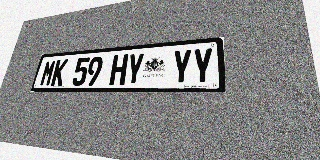5: (71, 57, 90, 86)
9: (85, 56, 104, 86)
H: (109, 54, 128, 85)
K: (50, 59, 68, 86)
M: (39, 60, 57, 86)
Y: (192, 47, 213, 84), (171, 49, 192, 84), (125, 53, 145, 85)
